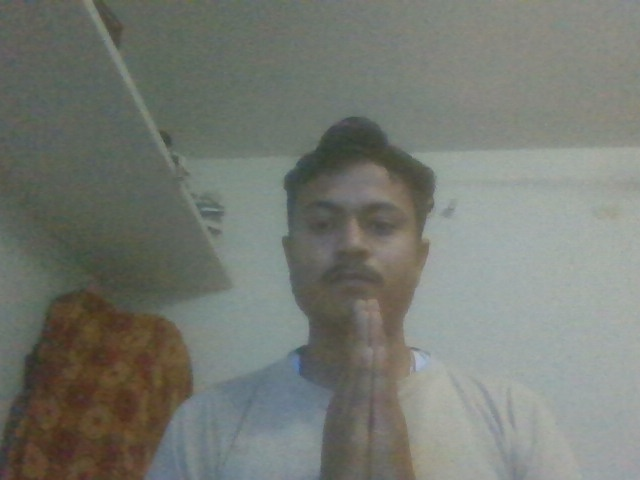Namaste: (322, 297, 437, 480)
